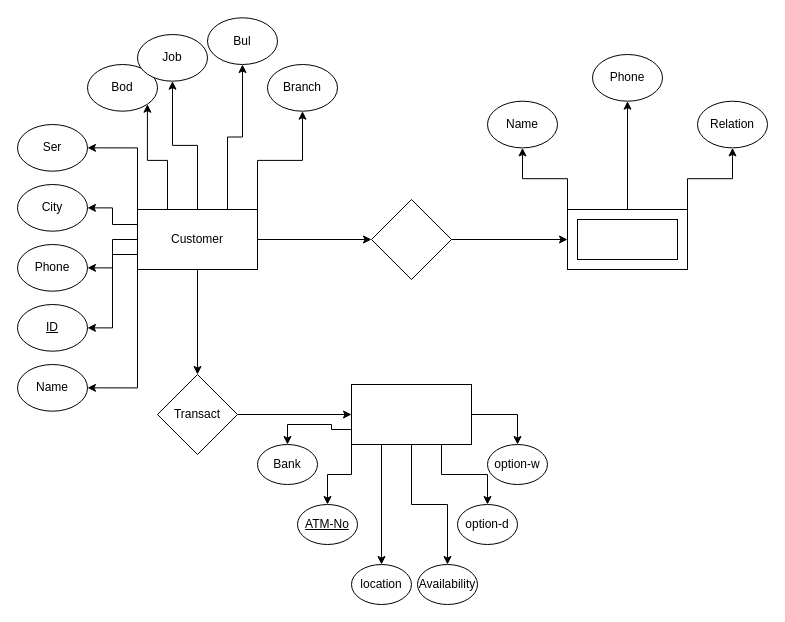
This 785x622 diagram has some shape labels left out. The box of each missing label's shape, as (x1, y1, x2, y2) in pixels:
ATM: (350, 384, 472, 444)
Dependet: (576, 218, 678, 260)
Missing: (370, 198, 452, 280)
